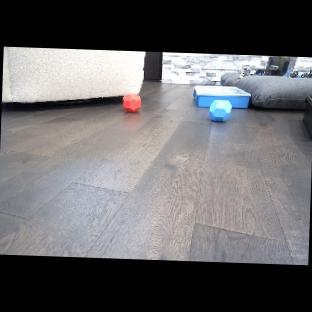V5_BLUE: (208, 99, 233, 124)
V5_RED: (121, 92, 143, 113)
